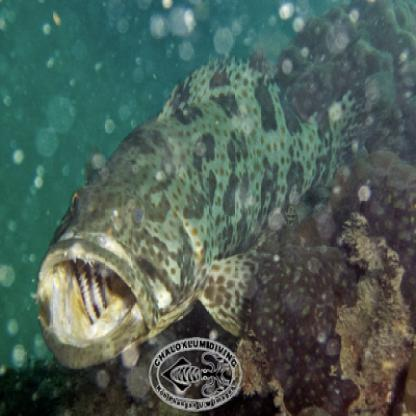grouper: (30, 52, 361, 377)
